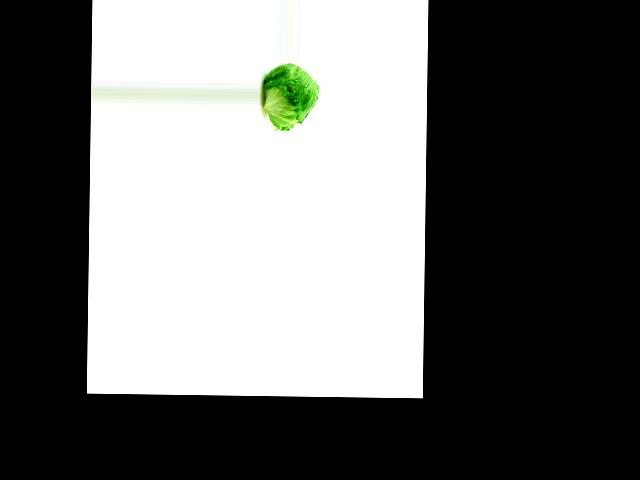lettuce: (262, 61, 321, 131)
